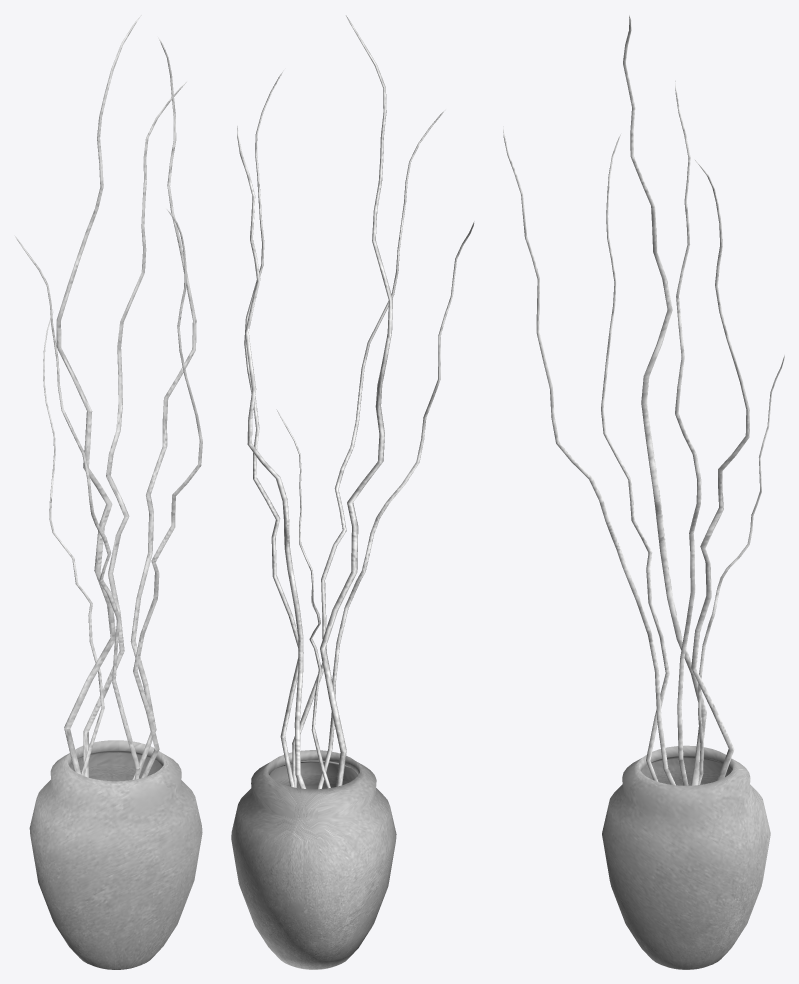
Rendered from FP205:Lamp_base_009_24a327a0.obj.
The picture shows the model from 3 angles, left to right: view 1: azimuth 30°, elevation 25°; view 2: azimuth 150°, elevation 25°; view 3: azimuth 270°, elevation 25°; orthographic projection. The views are drawn at different scales.
Parts seen in each view (by area): view 1: FP205:Lamp_base.009_24a327a0; view 2: FP205:Lamp_base.009_24a327a0; view 3: FP205:Lamp_base.009_24a327a0.
Boxes of the visible parts, <box> form: FP205:Lamp_base.009_24a327a0: <box>14,15,202,969</box>; FP205:Lamp_base.009_24a327a0: <box>231,15,474,969</box>; FP205:Lamp_base.009_24a327a0: <box>503,15,784,969</box>.
Size of the model in its own units: 0.4426 by 1.93 by 0.5235.
